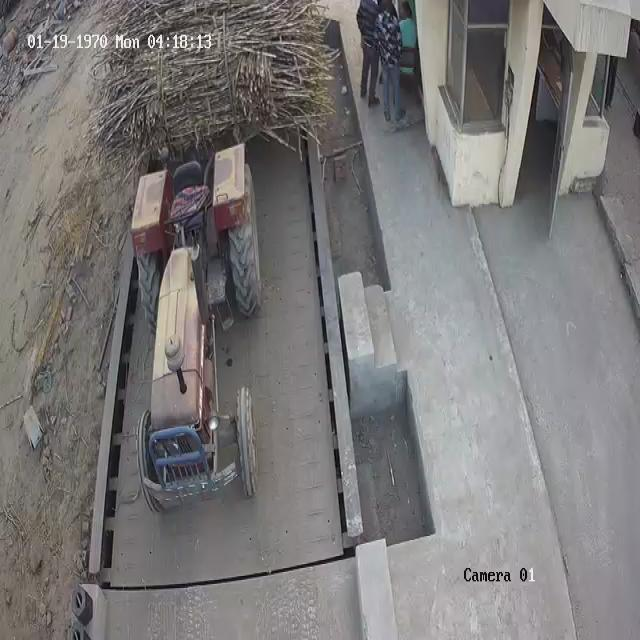Tratores - v5 YOLO V8L 2024-11-13: (131, 149, 262, 516)
